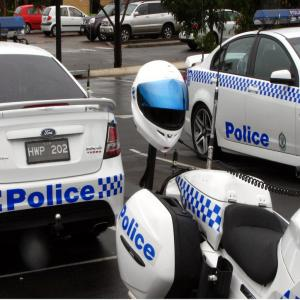Vehicle-registration-plate: (24, 137, 68, 166)
